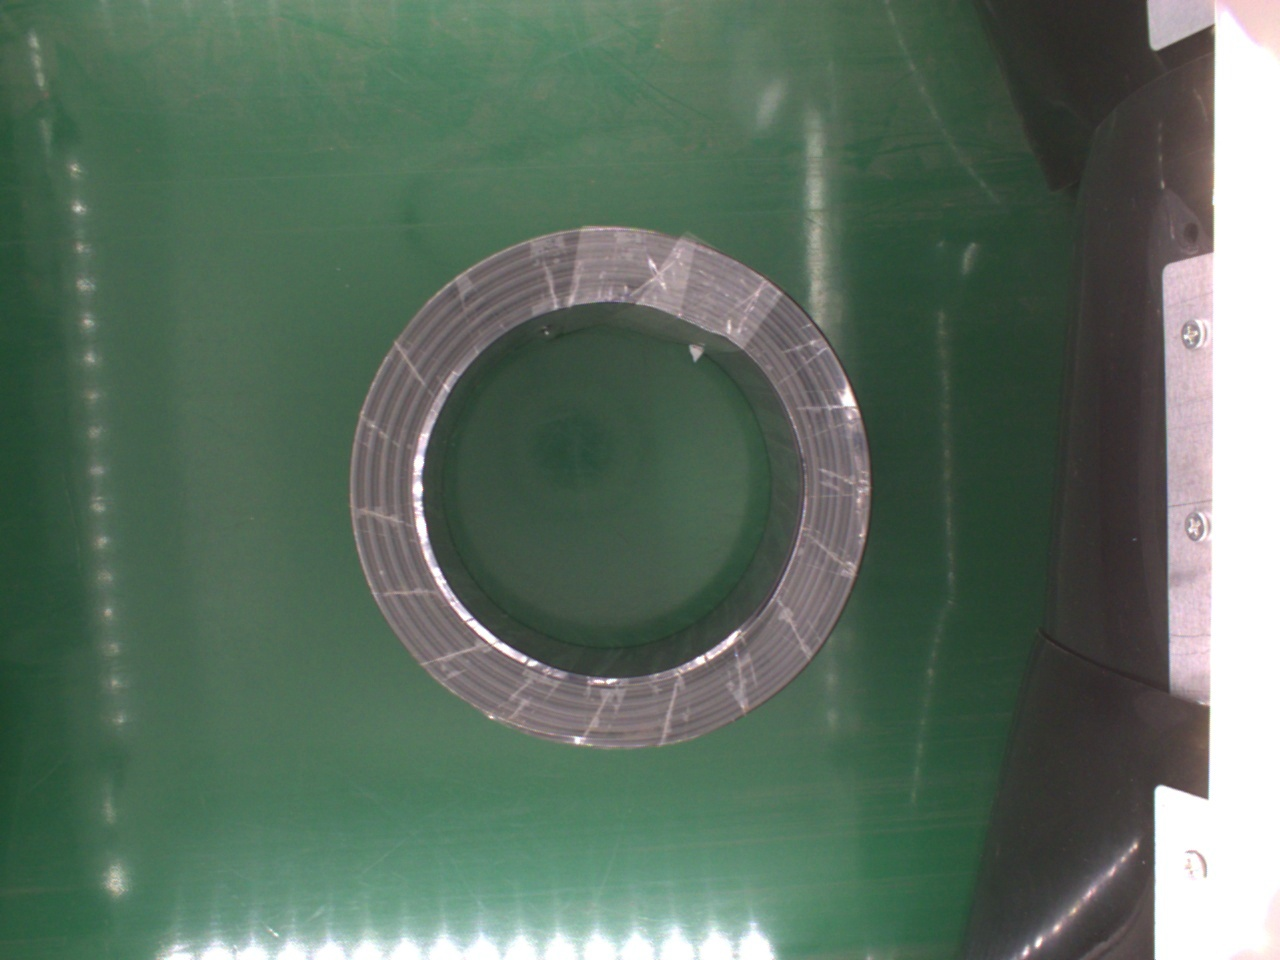black: (336, 223, 876, 751)
